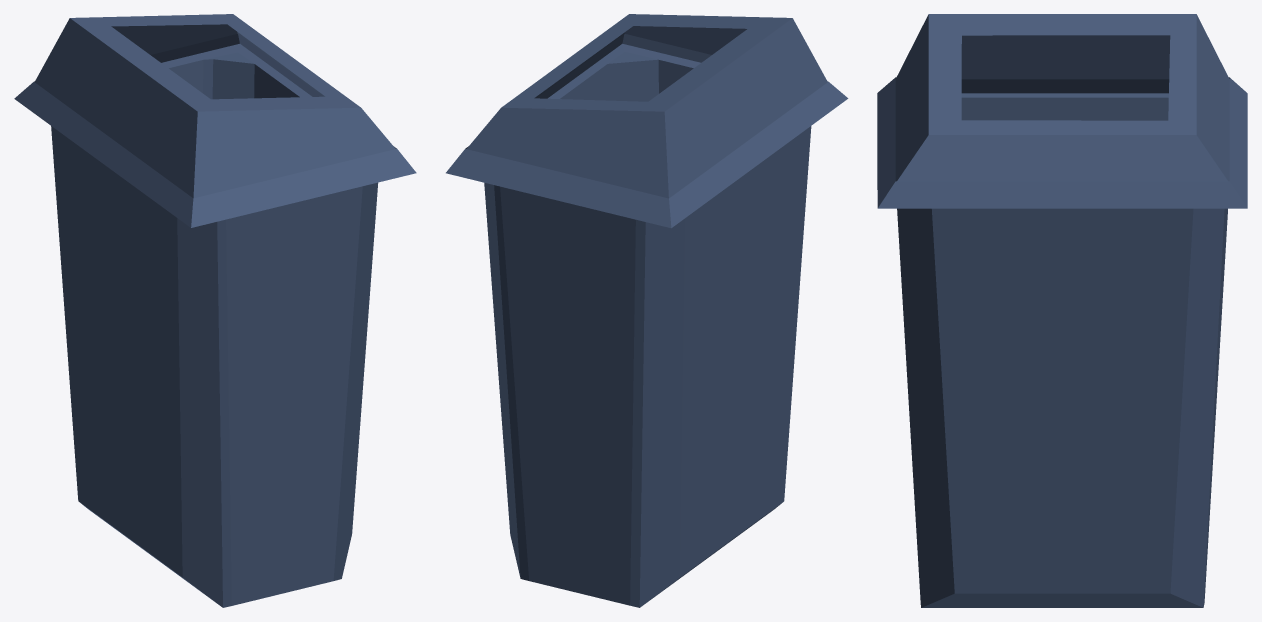
The model's file is trashcan.glb.
3 renders of one model, left to right at view 1: azimuth 30°, elevation 25°; view 2: azimuth 150°, elevation 25°; view 3: azimuth 270°, elevation 25°, orthographic. The views are drawn at different scales.
Parts seen in each view (by area): view 1: Cube.001, Cube.002, Cube.004; view 2: Cube.001, Cube.002, Cube.004; view 3: Cube.001, Cube.002, Cube.004.
Part boxes in pixels (box(x1,y1,x2,y2)): Cube.001: box(14, 34, 416, 607); Cube.002: box(35, 18, 395, 198); Cube.004: box(70, 14, 360, 111); Cube.001: box(446, 34, 848, 607); Cube.002: box(467, 18, 827, 198); Cube.004: box(501, 14, 791, 111); Cube.001: box(877, 77, 1247, 607); Cube.002: box(895, 14, 1229, 181); Cube.004: box(928, 14, 1196, 134).
Bounding box in the file's own units: 1.93 × 4.09 × 2.61.
